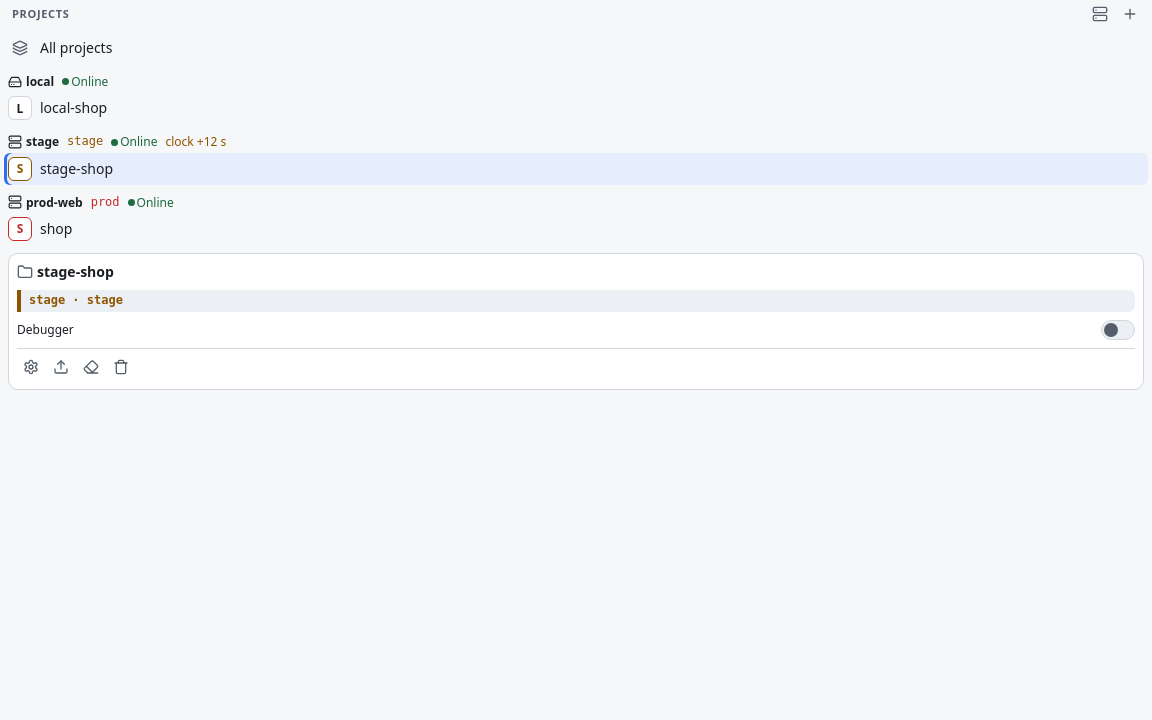
ProjectsPanel with several servers › asks for the project name before removing it from stage
The image size is (1152, 720).
Step 1. Click the button named "Remove project" → (121, 367), box [107,353,135,381]
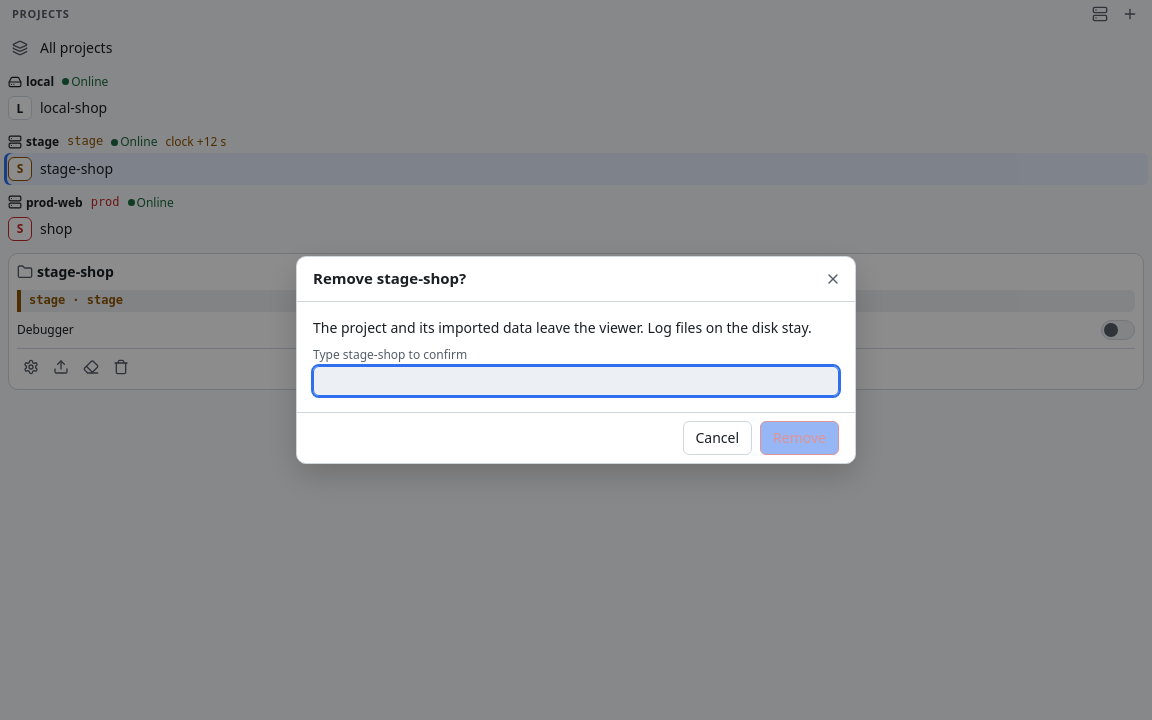
Expected: the button "Remove" is disabled, [760,421,839,455]
